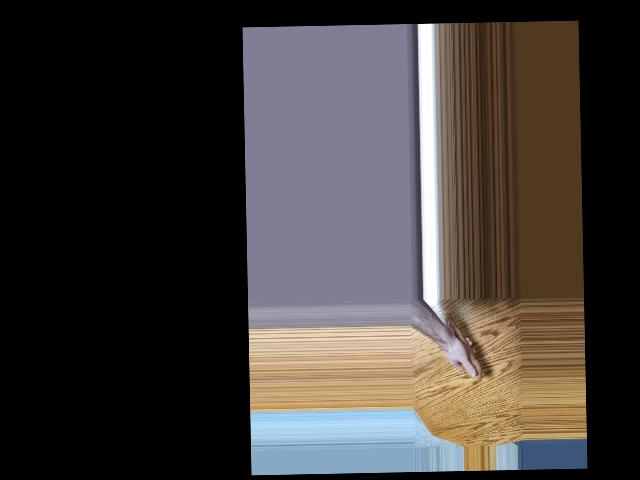sweet_potato: (441, 306, 484, 382)
